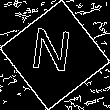N_S: (32, 27, 78, 83)
